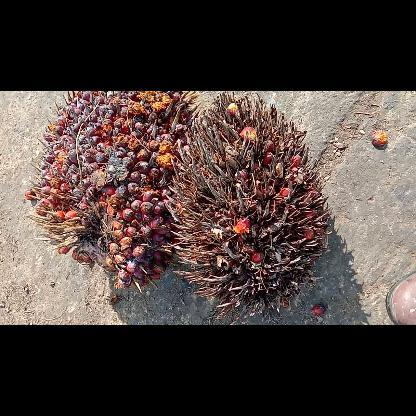TBS masak: (26, 90, 196, 292)
Terlalu masak: (165, 90, 331, 320)
